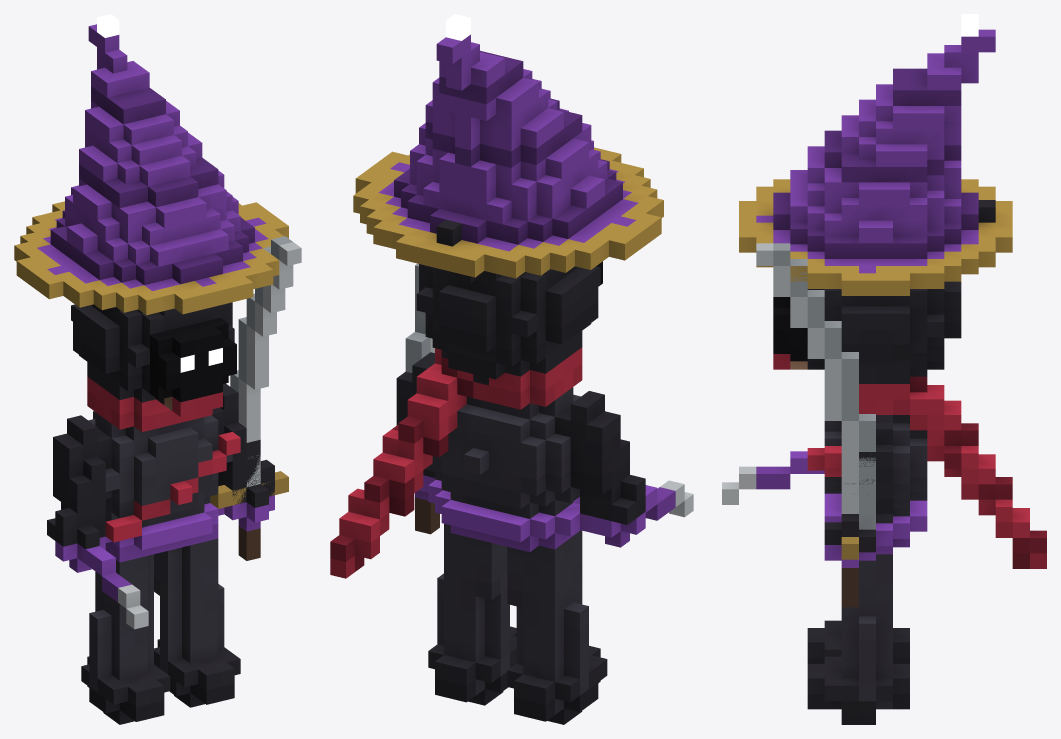
Rendered from u_lame__oracle.glb.
The picture shows the model from 3 angles, left to right: view 1: azimuth 30°, elevation 25°; view 2: azimuth 150°, elevation 25°; view 3: azimuth 270°, elevation 25°; orthographic projection. The views are drawn at different scales.
Parts seen in each view (by area): view 1: lame_body, lame_weapon, lame_glow; view 2: lame_body, lame_weapon; view 3: lame_body, lame_weapon.
Part boxes in pixels (bbox=[...]): lame_body: bbox=[14, 24, 288, 724]; lame_weapon: bbox=[210, 236, 301, 560]; lame_glow: bbox=[97, 14, 222, 372]; lame_body: bbox=[330, 34, 693, 724]; lame_weapon: bbox=[405, 263, 439, 534]; lame_body: bbox=[722, 29, 1046, 724]; lame_weapon: bbox=[756, 243, 875, 607].
Bounding box in the file's own units: 0.85 × 2.2 × 0.95.
